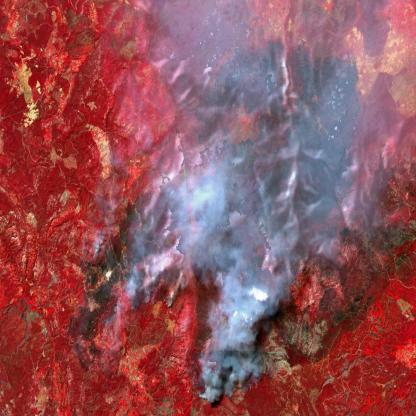fire: (69, 217, 280, 405)
